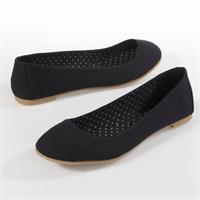shoe: (36, 66, 194, 164), (10, 38, 162, 106)
